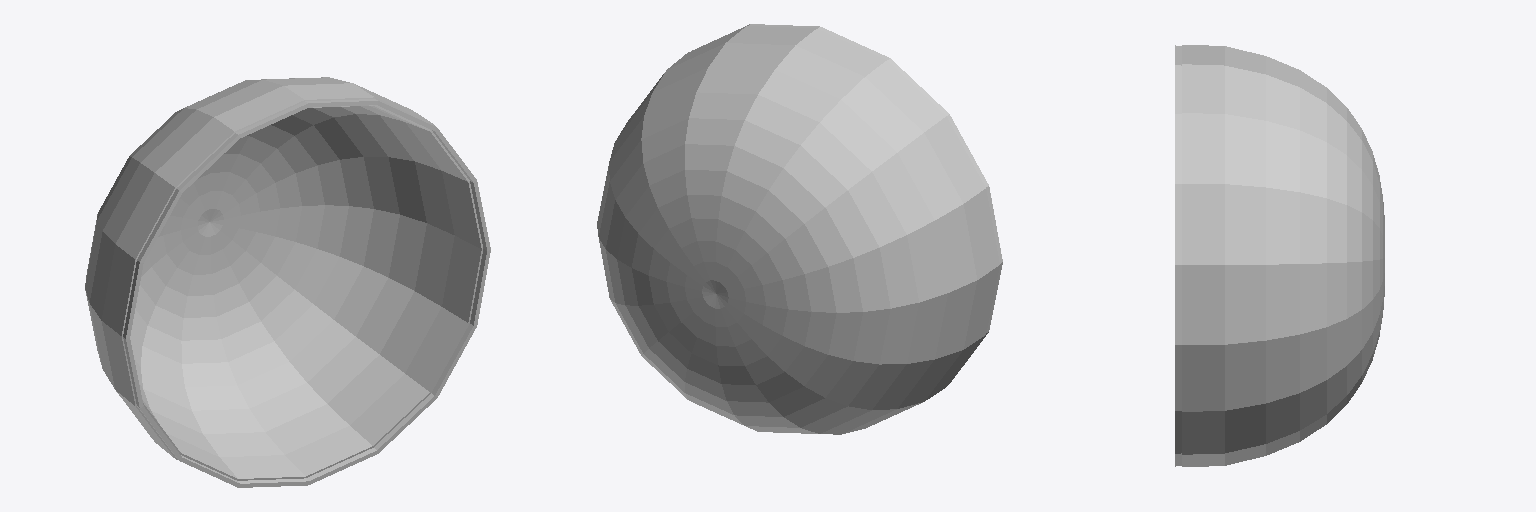
Rendered from bowl.obj.
3 views of the same model, side by side, from view 1: azimuth 30°, elevation 25°; view 2: azimuth 150°, elevation 25°; view 3: azimuth 270°, elevation 25° (orthographic).
Visible parts, largest first — view 1: BézierCurve.001; view 2: BézierCurve.001; view 3: BézierCurve.001.
Boxes of the visible parts, x1=… form: BézierCurve.001: x1=85, y1=77, x2=490, y2=487; BézierCurve.001: x1=597, y1=24, x2=1002, y2=434; BézierCurve.001: x1=1175, y1=45, x2=1384, y2=466.
Size of the model in its own units: 0.1355 by 0.1355 by 0.0674.